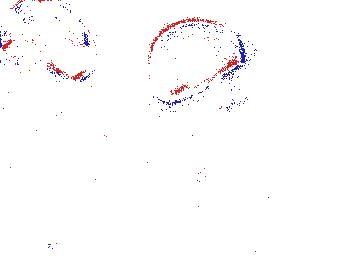moon jellyfish: (147, 18, 244, 104), (128, 124, 213, 191), (21, 10, 98, 82), (1, 82, 43, 170)
